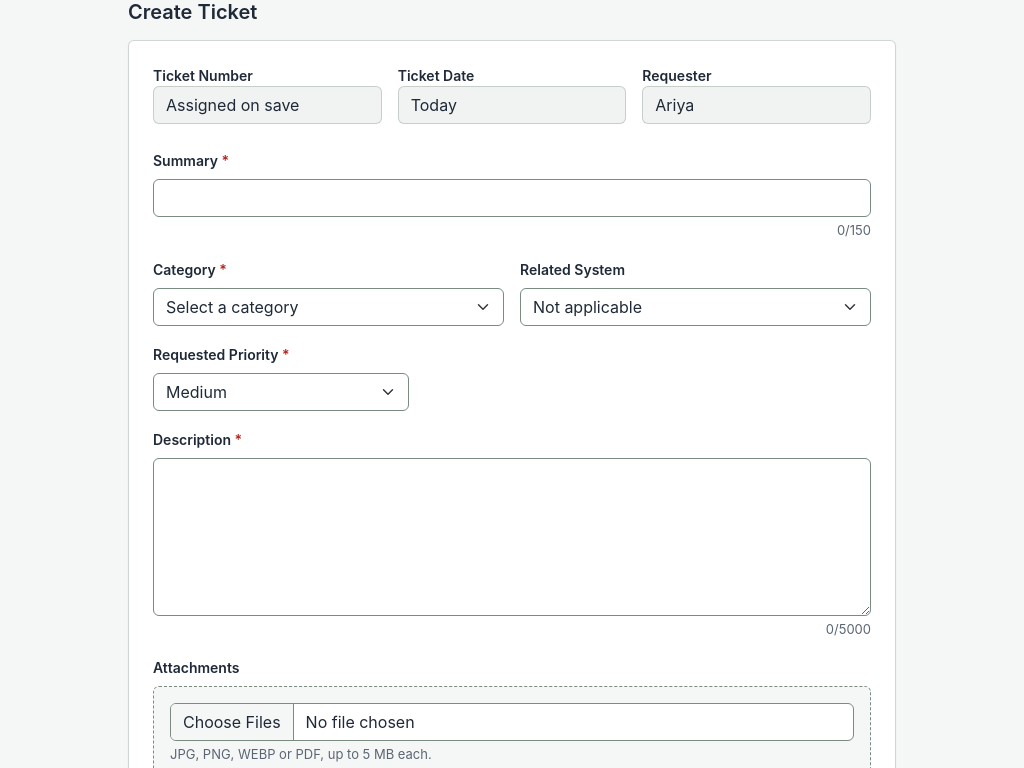
Scenario: CreateTicketPage › preserves entered values and focuses the first invalid field on a 422 response
Expected: the dropdown labelled "Category" is shown, 153,288 -> 504,326
In the field labelled "Summary": coordinates (512, 198) 153,179 -> 871,217, type "Printer is broken"
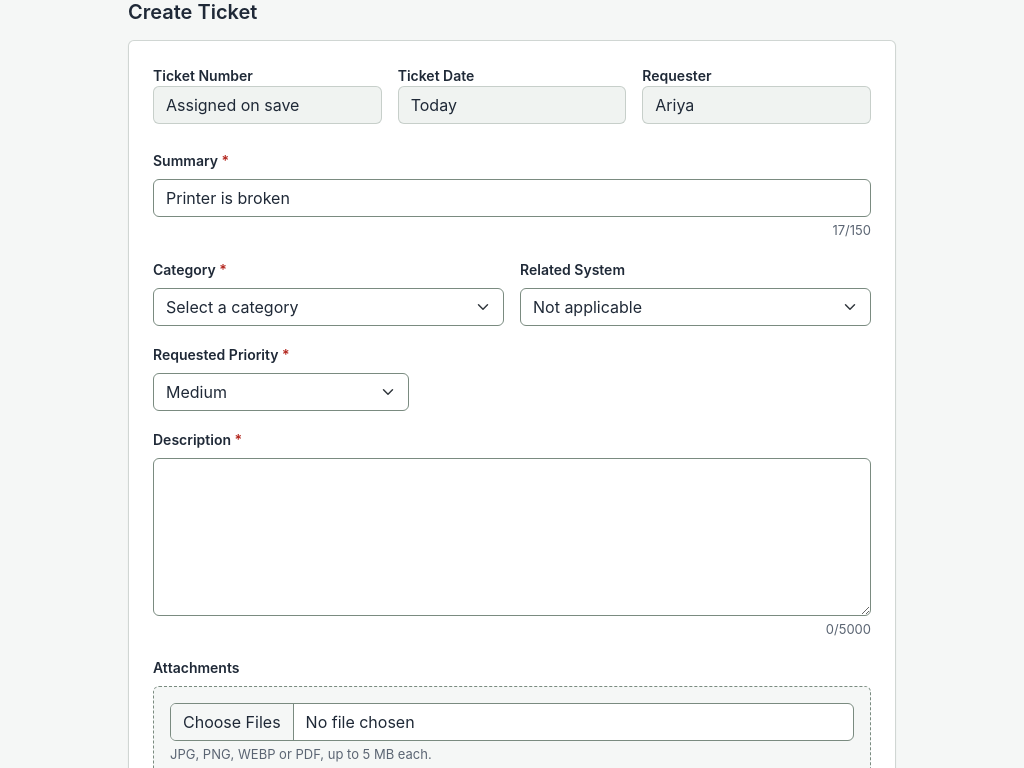
Select "Hardware" in the dropdown labelled "Category": coordinates (328, 306) 153,288 -> 504,326
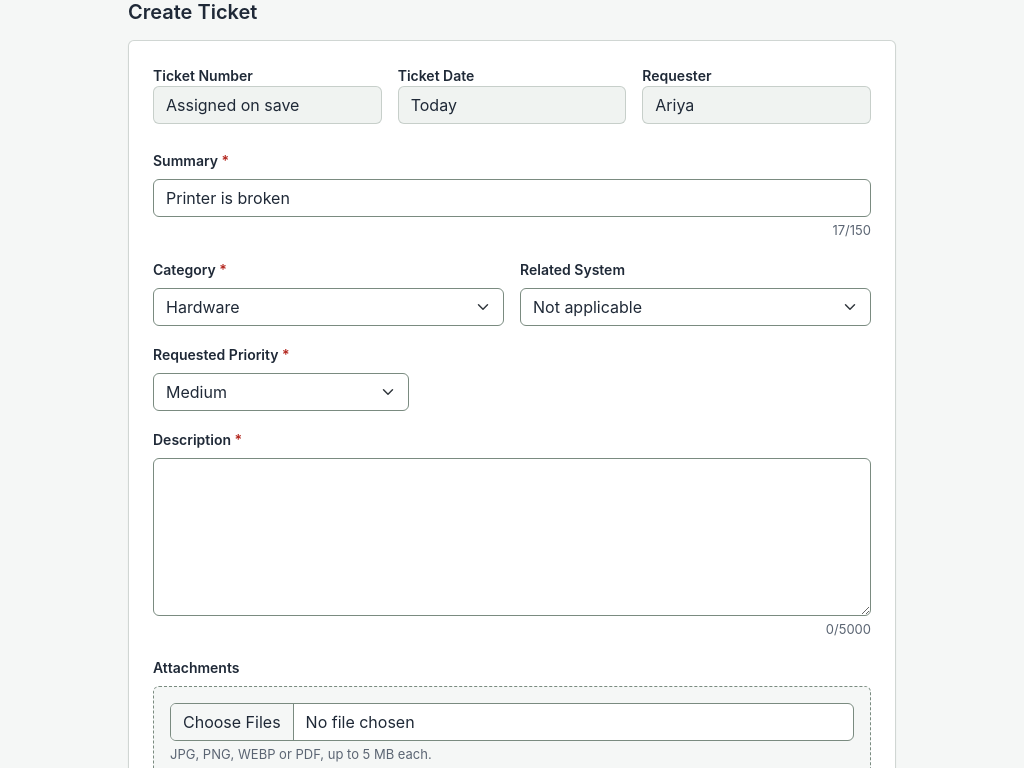
In the text box labelled "Description": coordinates (512, 536) 153,458 -> 871,616, type "It will not turn on at all after the outage yesterday."
(page scrolled)
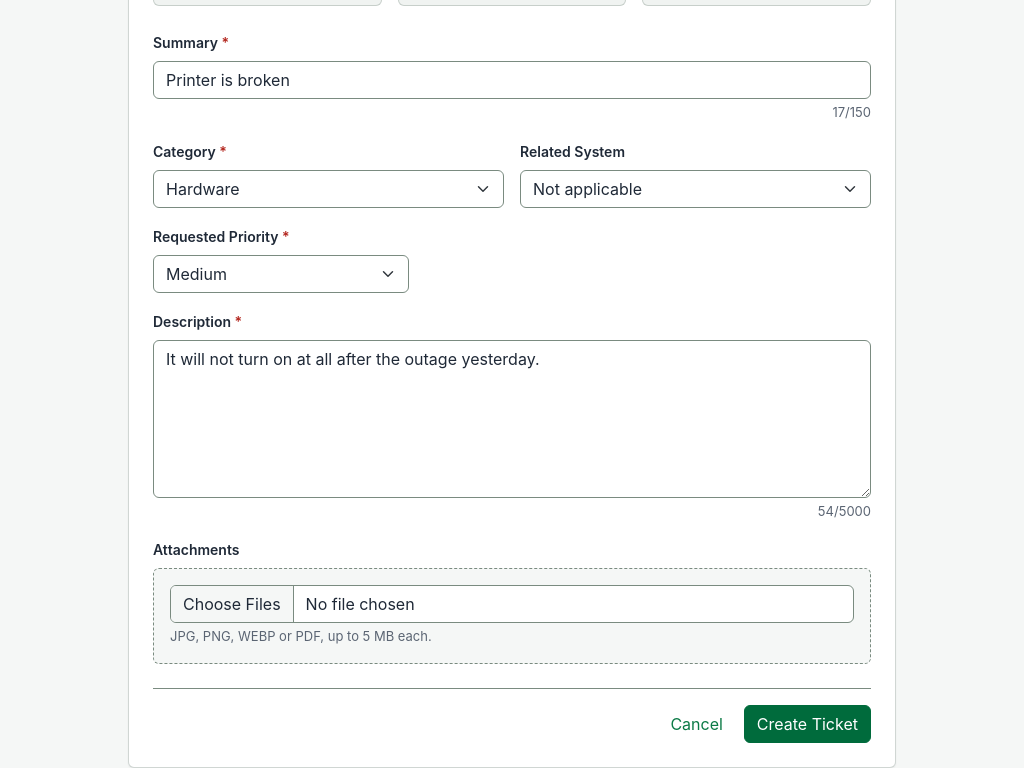
Click the button "Create Ticket": coordinates (807, 724) 744,704 -> 871,742
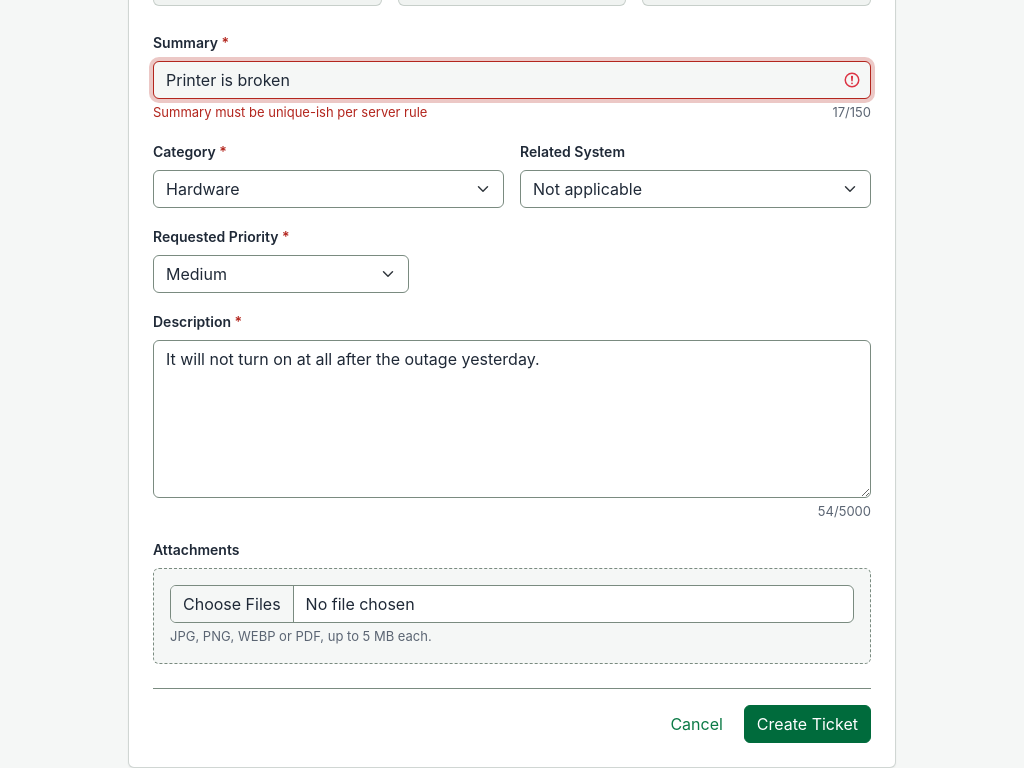
Expected: the text "Summary must be unique-ish per server rule" is shown, 153,104 -> 427,120
